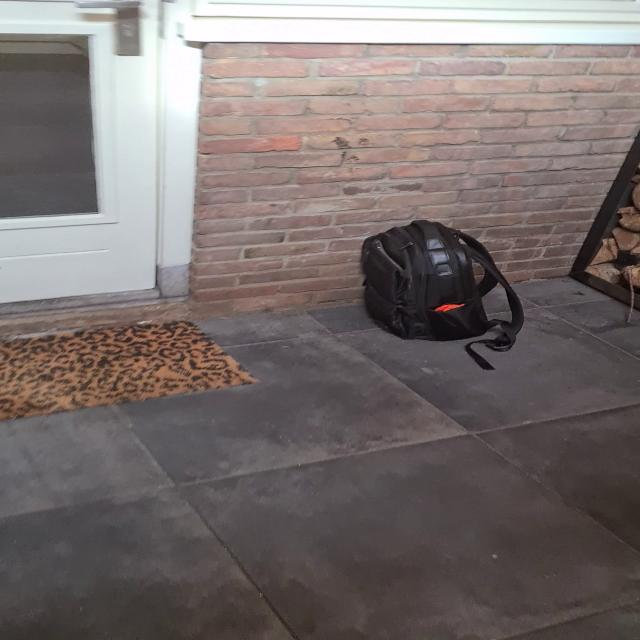backpack: (350, 218, 522, 348)
